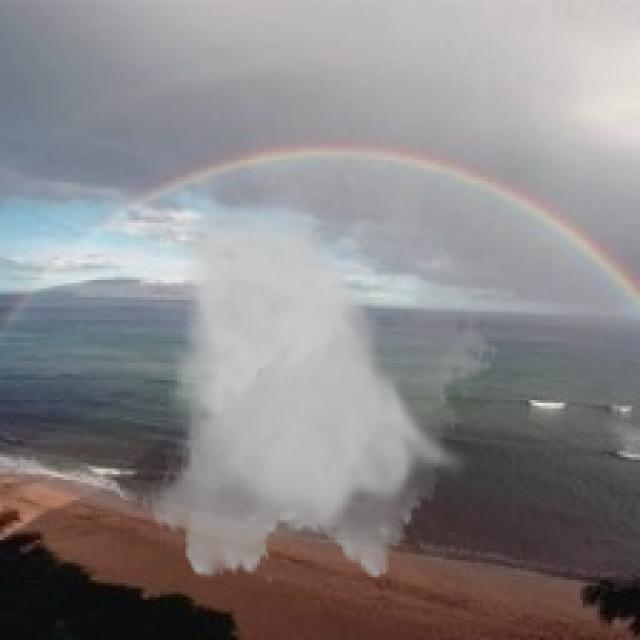Smoke: (140, 182, 500, 588)
